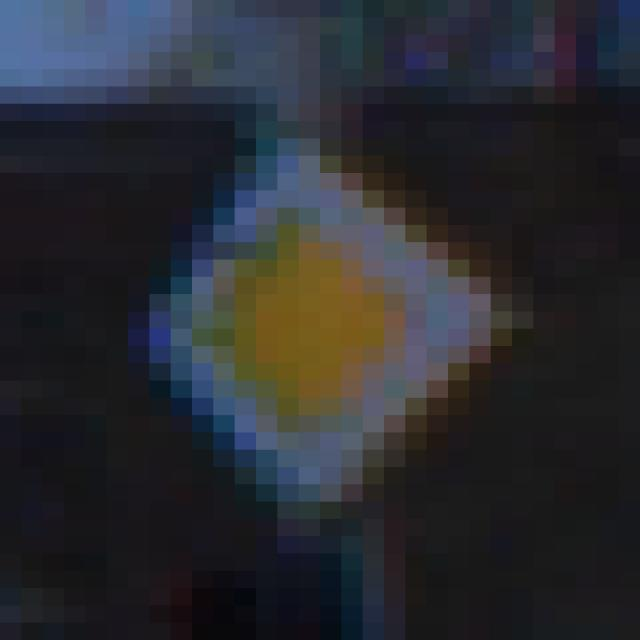Main Road: (108, 88, 534, 555)
